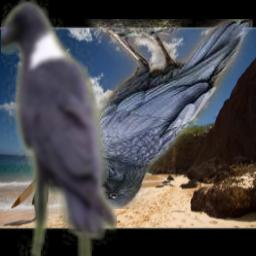Crow: (72, 19, 253, 209), (1, 0, 117, 256)
